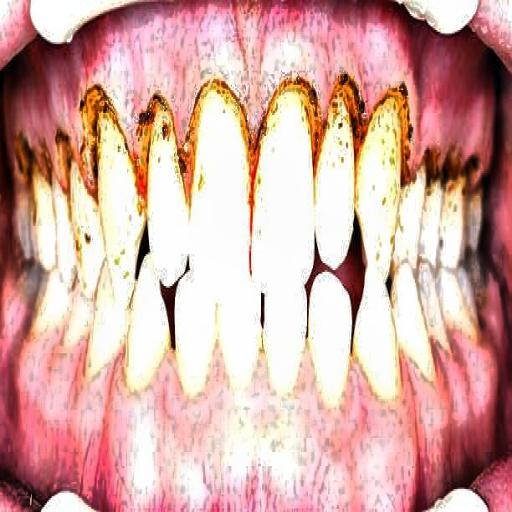Calculus: (26, 31, 464, 226)
